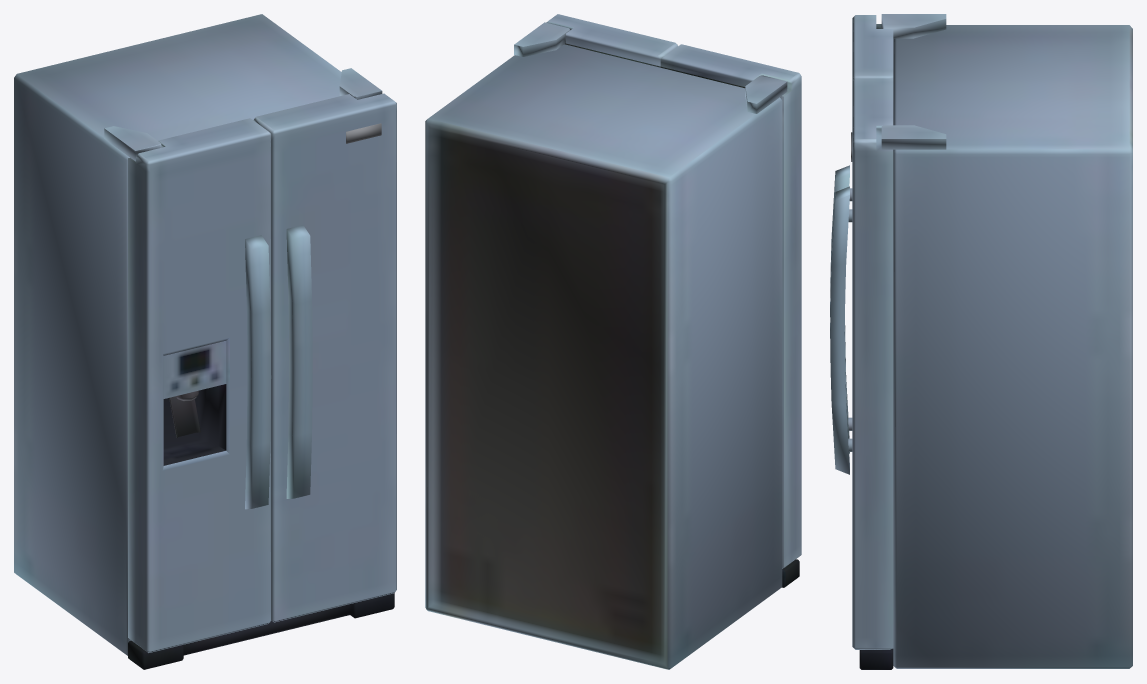
The picture shows the model from 3 angles, left to right: view 1: azimuth 30°, elevation 25°; view 2: azimuth 150°, elevation 25°; view 3: azimuth 270°, elevation 25°; orthographic projection. The views are drawn at different scales.
Size of the model in its own units: 9.71 by 18.8 by 9.73.
1 material, 1 textured.
